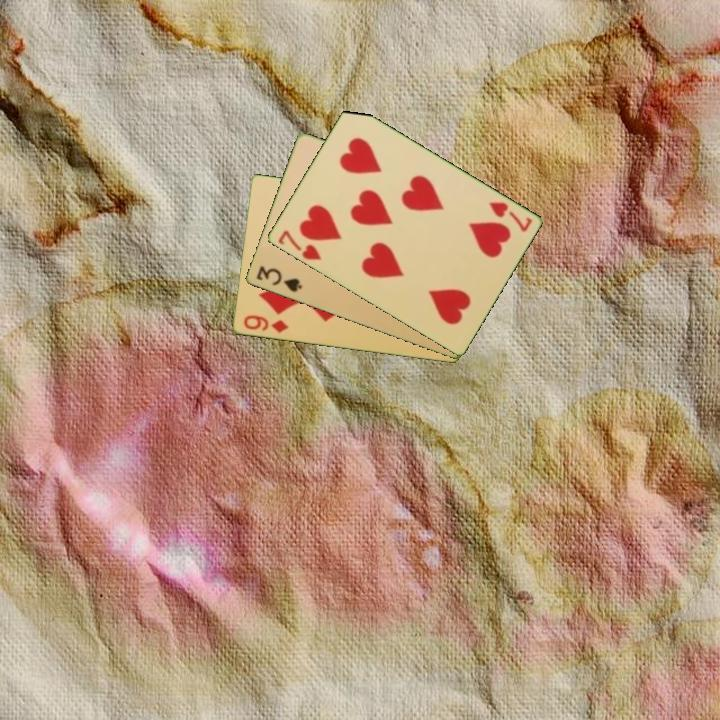3s: (252, 262, 305, 295)
7h: (485, 198, 535, 235), (274, 227, 324, 263)
9d: (240, 312, 291, 336)
